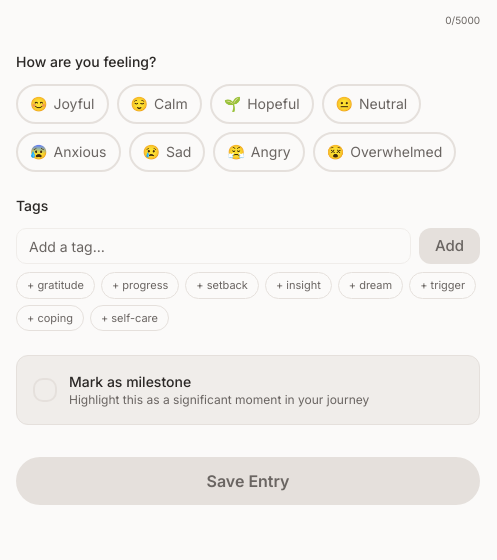
Test: JournalEditor › can add and remove tags
(page scrolled)
In the field with placeholder "Add a tag…": x=213, y=246 [16,228,411,264], type "hope"
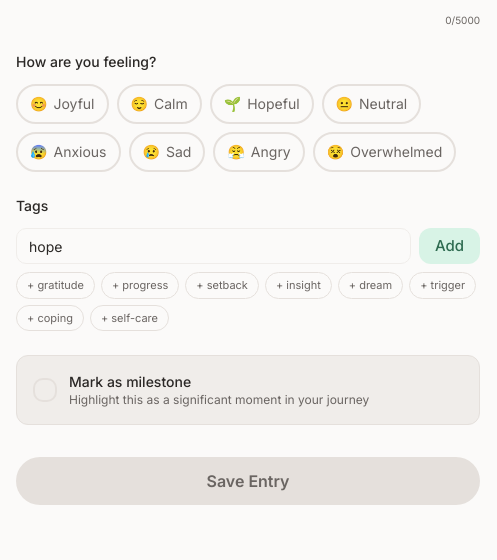
Press Enter in the field with placeholder "Add a tag…", box [16,228,411,264]
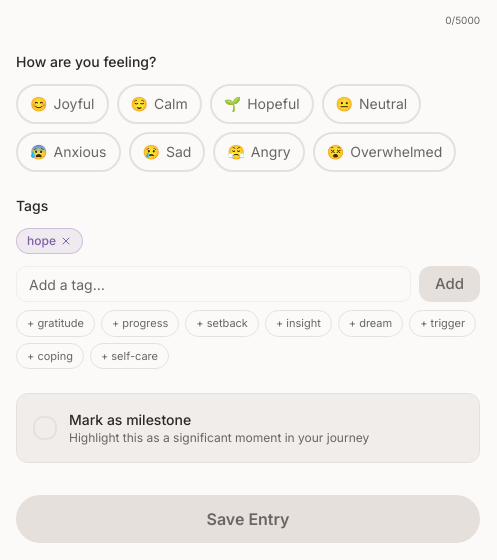
Now the text "hope" is shown, box [16,228,83,254]
